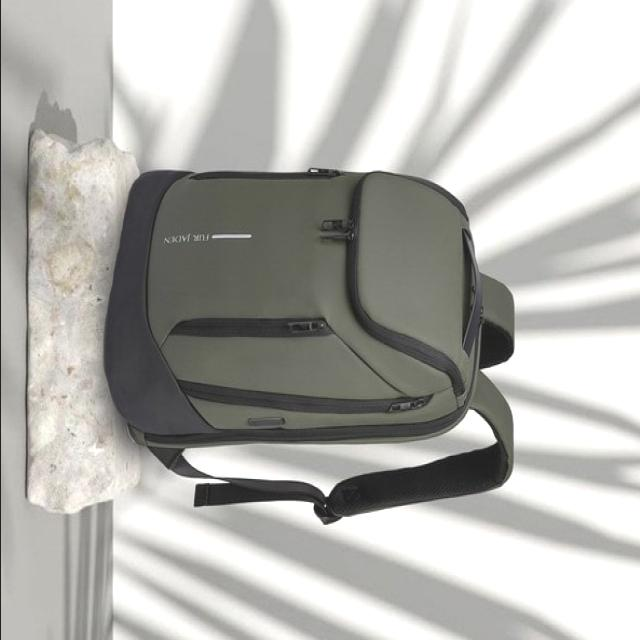backpack: (105, 168, 519, 526)
